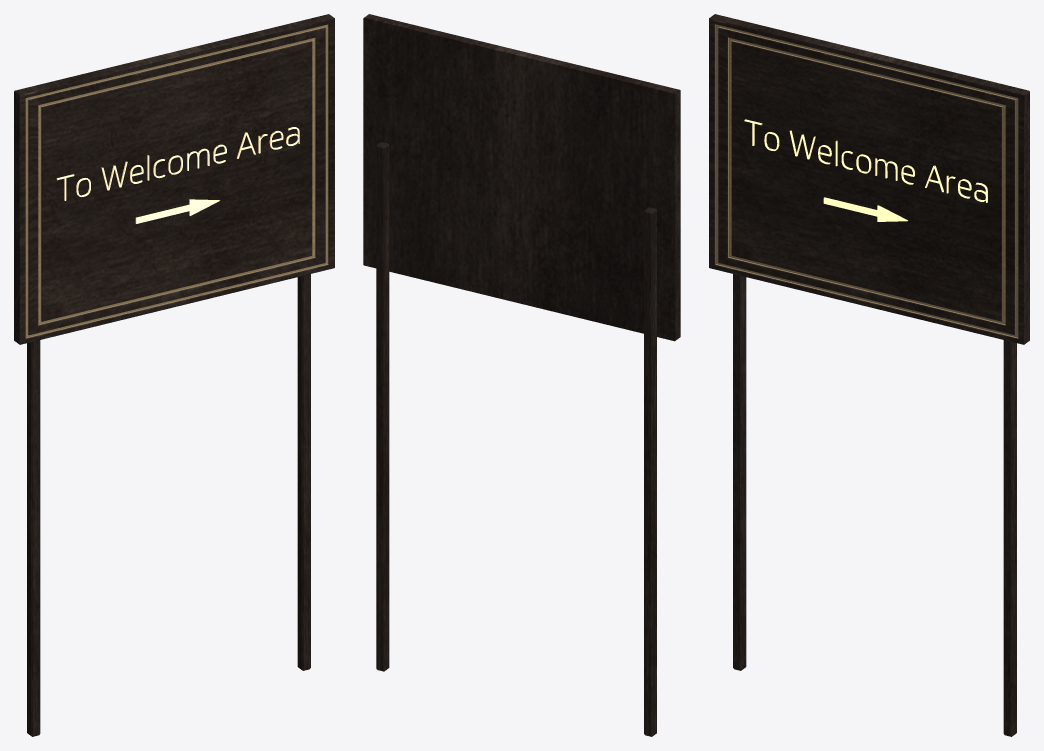
The model's file is welcomeSign.fbx.
3 views of the same model, side by side, from view 1: azimuth 30°, elevation 25°; view 2: azimuth 150°, elevation 25°; view 3: azimuth 330°, elevation 25° (orthographic).
Visible parts, largest first — view 1: curve1; view 2: curve1; view 3: curve1.
Part boxes in pixels (x1,y1,x2,y2): curve1: (14, 14, 334, 736); curve1: (363, 14, 680, 736); curve1: (709, 14, 1029, 736).
Size of the model in its own units: 98.68 by 195 by 6.51.
1 material, 1 textured.
